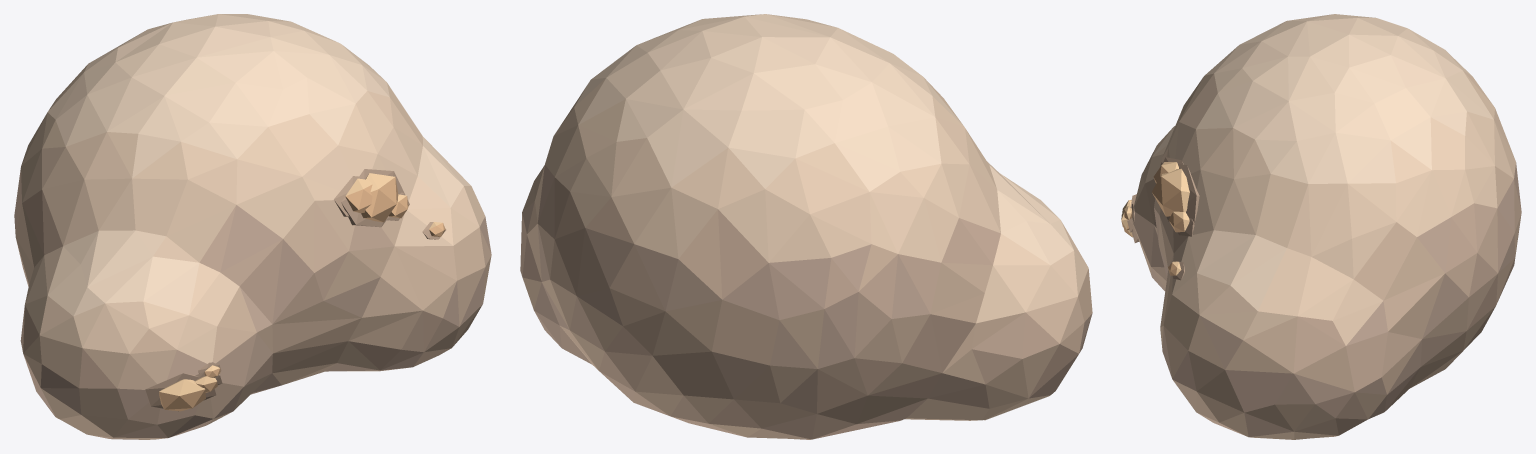
File: SandstoneOre.glb
3 views of the same model, side by side, from view 1: azimuth 30°, elevation 25°; view 2: azimuth 150°, elevation 25°; view 3: azimuth 270°, elevation 25° (orthographic). The views are drawn at different scales.
Visible parts, largest first — view 1: StoneBody, Inclusions; view 2: StoneBody; view 3: StoneBody, Inclusions.
Boxes of the visible parts, x1,y1,x2,y2 form: StoneBody: (14,14,491,439); Inclusions: (145,169,446,411); StoneBody: (520,14,1092,439); StoneBody: (1133,14,1521,439); Inclusions: (1121,157,1199,280).
Bounding box in the file's own units: 5.49 × 3.65 × 4.19.
